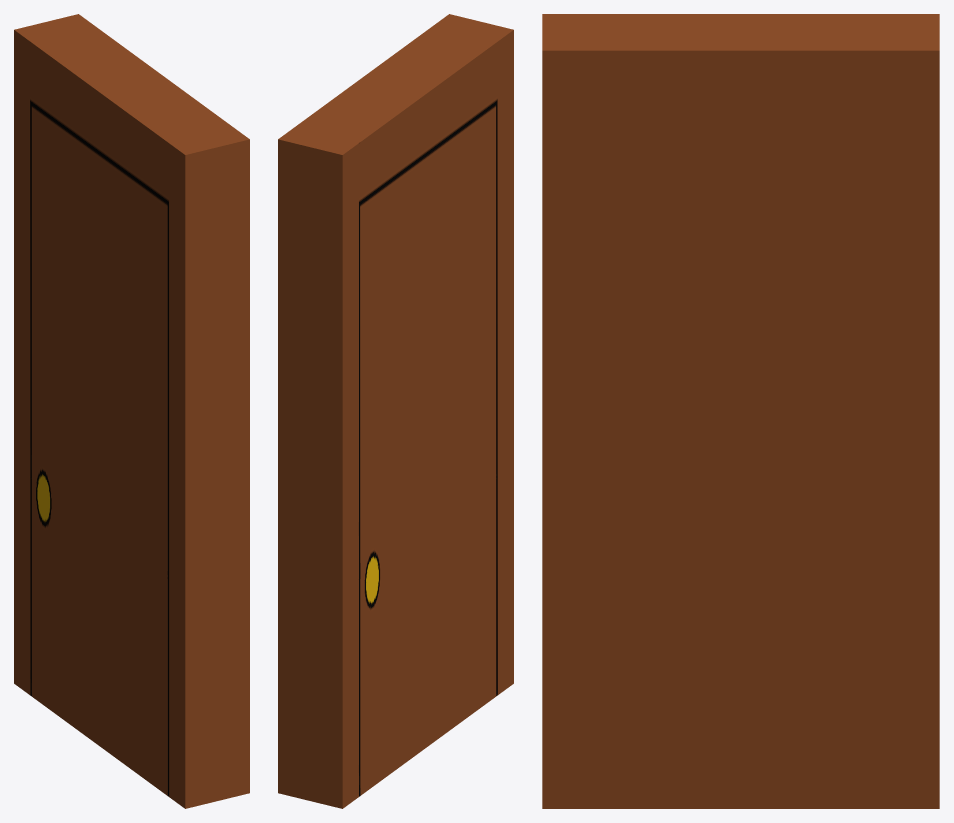
File: puertacasitaizq.obj
3 views of the same model, side by side, from view 1: azimuth 30°, elevation 25°; view 2: azimuth 150°, elevation 25°; view 3: azimuth 270°, elevation 25° (orthographic). The views are drawn at different scales.
Parts seen in each view (by area): view 1: pasted__pCube22 group53; view 2: pasted__pCube22 group53; view 3: pasted__pCube22 group53.
Part boxes in pixels (<box>): pasted__pCube22 group53: <box>14,14,249,808</box>; pasted__pCube22 group53: <box>278,14,513,808</box>; pasted__pCube22 group53: <box>542,14,939,808</box>.
Bounding box in the file's own units: 0.1912 × 1.85 × 0.8778.
1 material, 1 textured.
